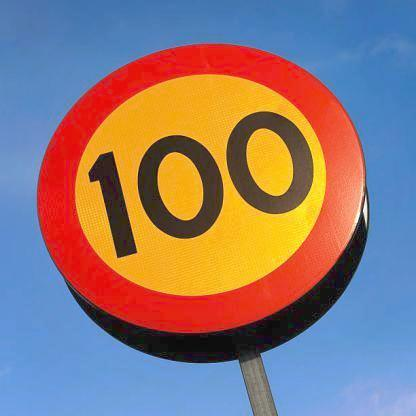Speed Limit -100-: (35, 40, 368, 335)
